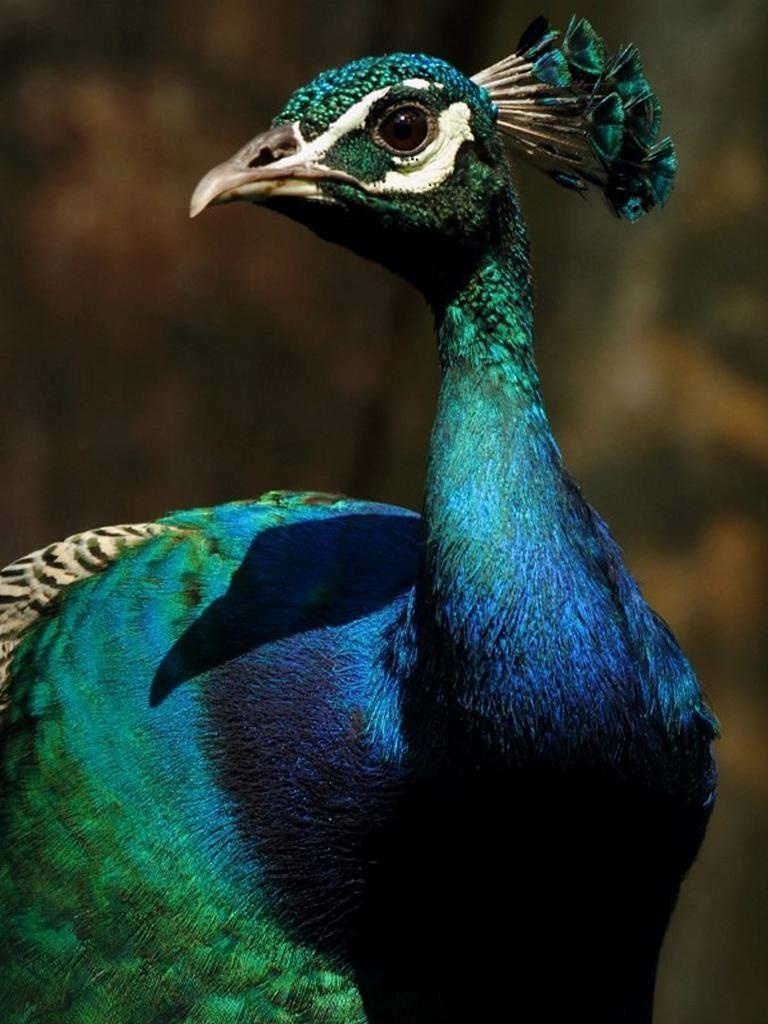peacock: (40, 26, 718, 1024)
